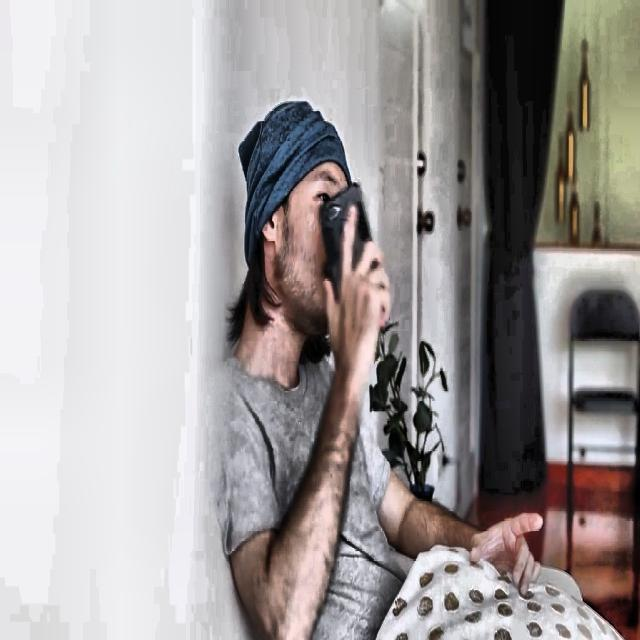Phone: (320, 178, 379, 302)
